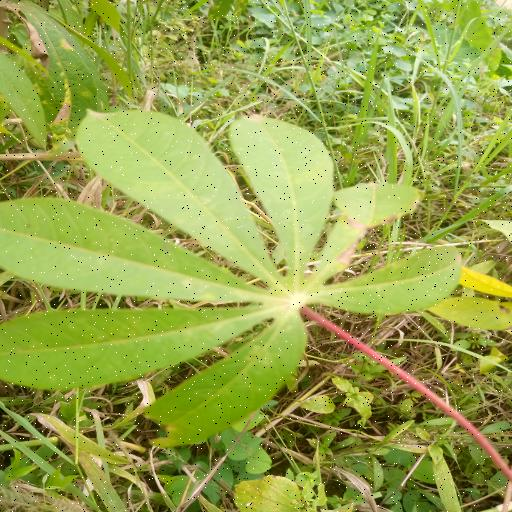Cassava_Mosaic: (0, 104, 463, 446)
